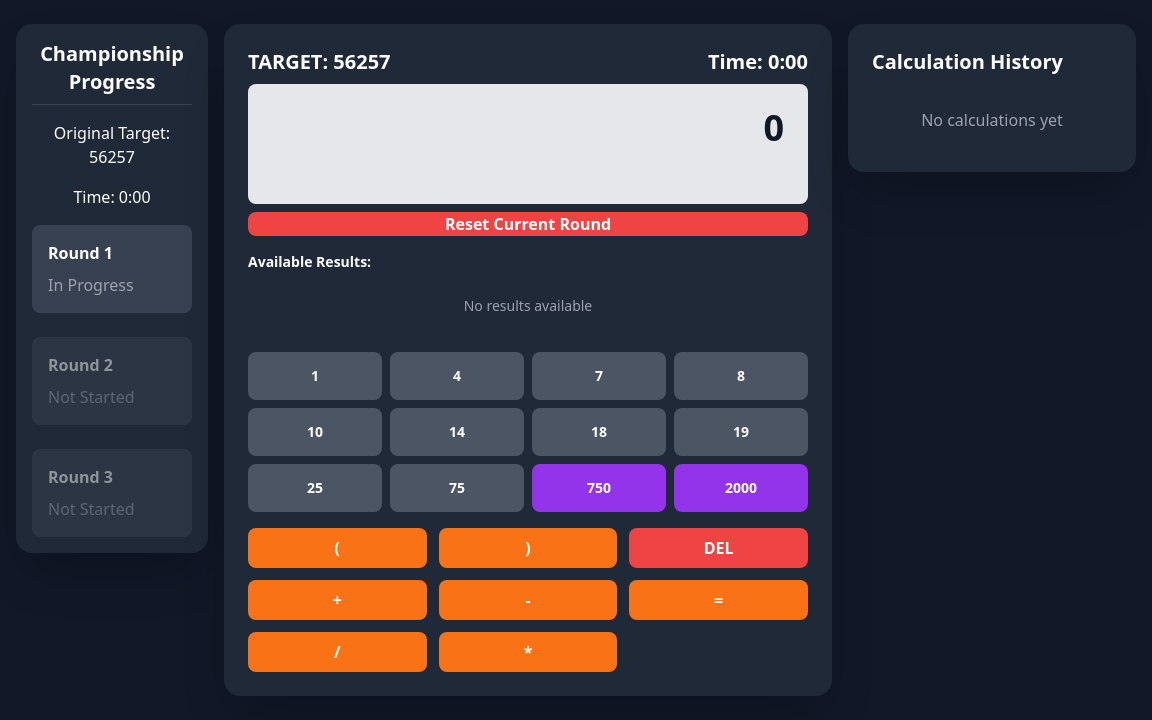
Scenario: Calculator Component › delete button removes last entry
Enter a number
Click the button "1": x=315, y=376 [248,352,382,400]
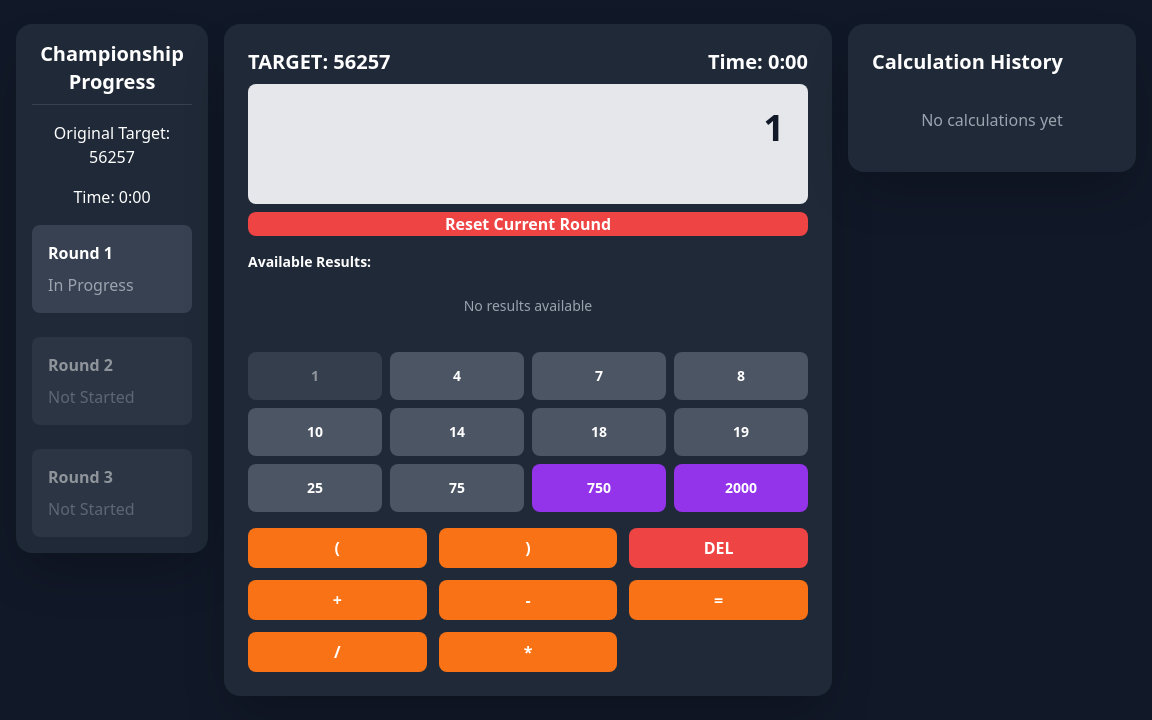
Click delete
Click the button "DEL": x=719, y=548 [629,528,808,568]
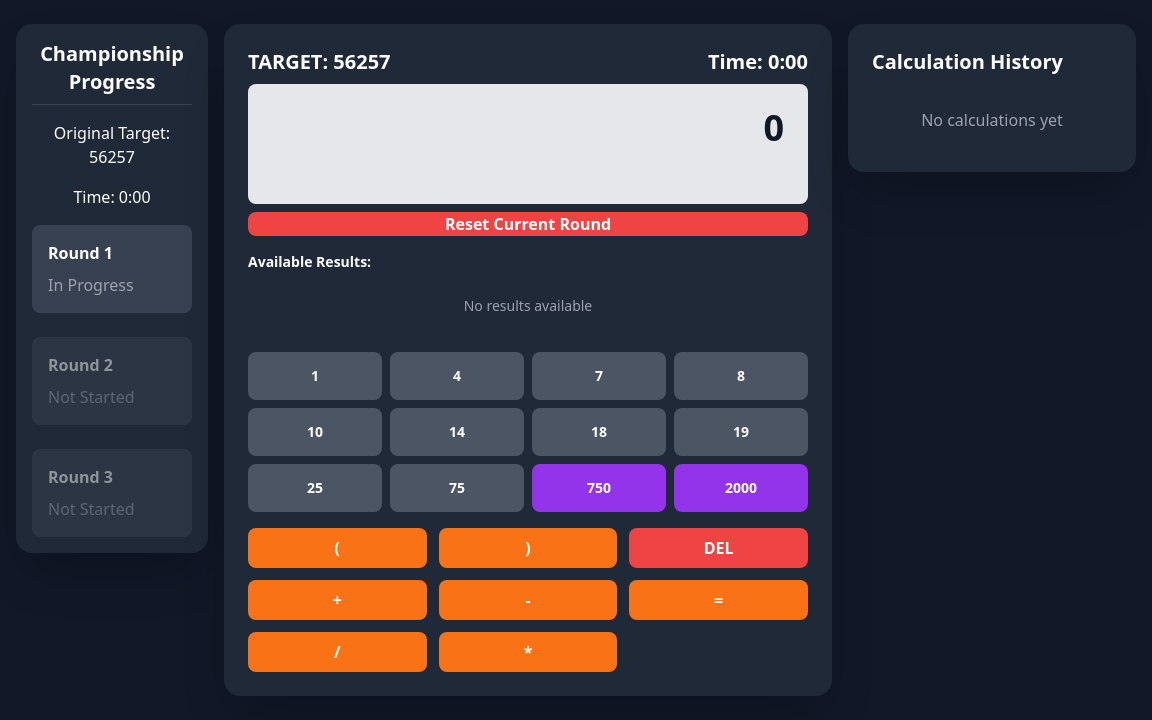
Now the text with test id "calculator-display" reads "0", box [763,103,784,152]
